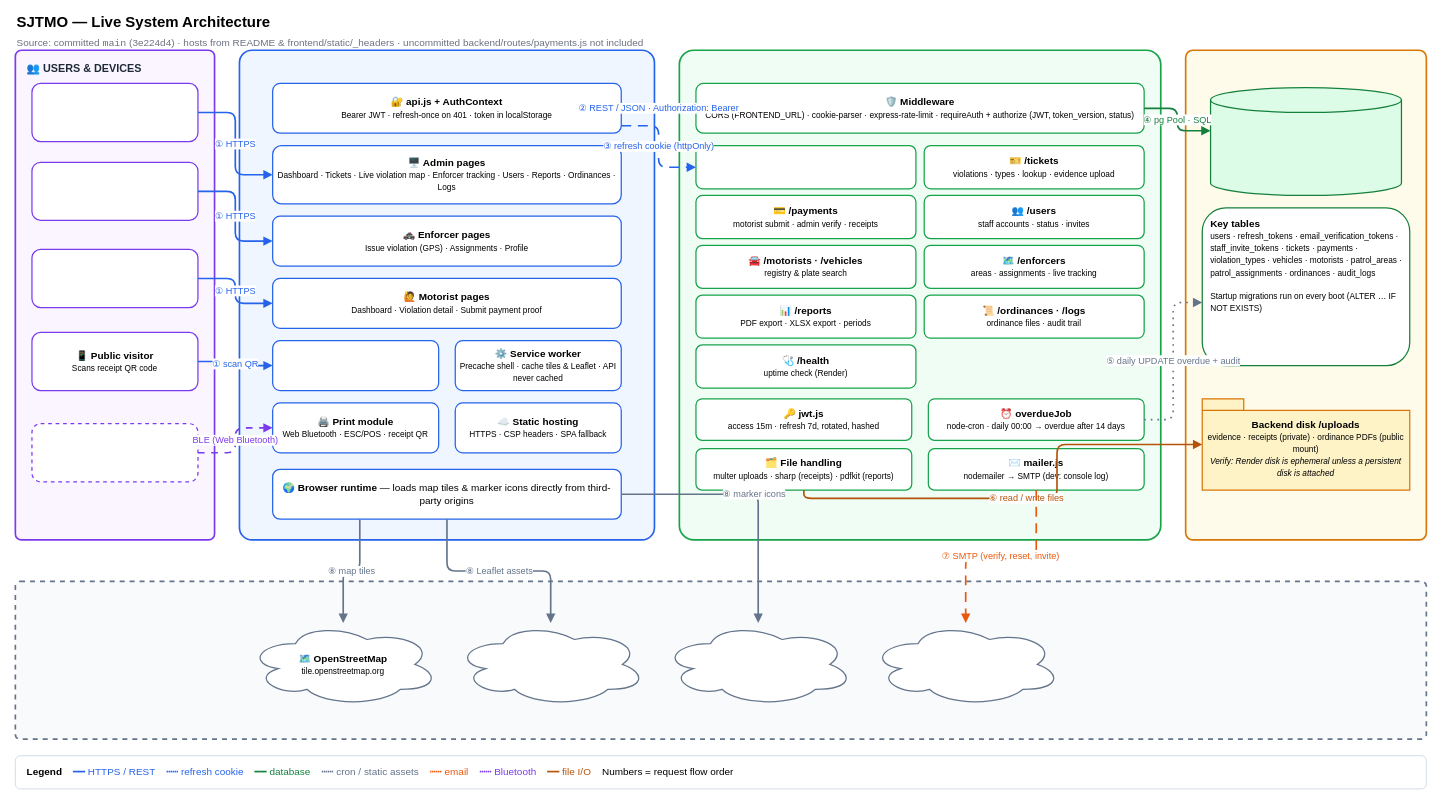
This 1441x803 diagram has some shape labels left out. The box of each missing label's shape, as (x1, y1, x2, y2) in pixels:
⚙️ API · Render Web Service (sjtmo-app-server.onrender.com): (678, 49, 1161, 540)
🌐 CLIENT · Render Static Site (sjtmo-app.onrender.com): (238, 49, 655, 540)
🐘 PostgreSQL 14+ Render managed · pg Pool · SSL when remote: (1210, 87, 1402, 196)
👮 Enforcer Phone PWA · GPS capture: (31, 161, 198, 221)
📦 unpkg CDN Leaflet 1.9.4 CSS / JS: (454, 622, 646, 706)
📧 SMTP relay Resend · SendGrid · Mailgun · Gmail: (869, 622, 1061, 706)
🔌 EXTERNAL SERVICES (third-party): (14, 580, 1427, 740)
🔑 /login register · verify-email · invite · reset · refresh · logout: (695, 145, 916, 189)
🖨️ PT-210 printer Bluetooth LE thermal: (31, 423, 198, 482)
🖼️ GitHub raw leaflet-color-markers PNGs: (662, 622, 854, 706)
🗄️ DATA & STORAGE: (1184, 49, 1427, 540)
🚗 Motorist Browser / installed PWA: (31, 248, 198, 308)
🛡️ Admin Desktop browser: (31, 82, 198, 142)
🧾 Public receipt /receipt/:token → GET /tickets/lookup (no auth): (272, 340, 439, 391)
